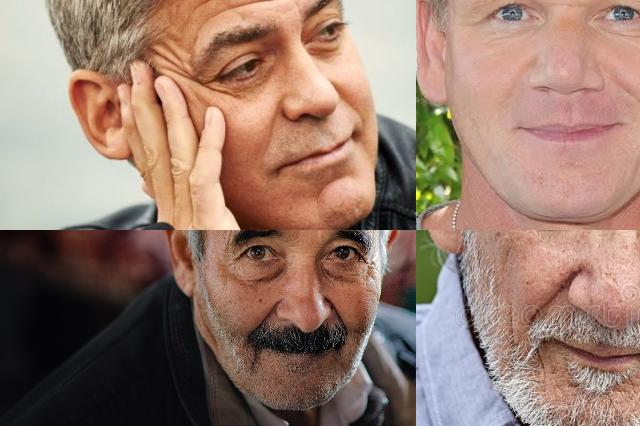chin: (615, 374, 639, 402), (309, 187, 327, 212), (535, 350, 547, 378)
forehead: (150, 36, 190, 72), (186, 0, 229, 22)
gummy_smile: (528, 280, 560, 320), (332, 86, 368, 116), (262, 107, 284, 147), (258, 290, 278, 330), (327, 296, 349, 330)
masseter: (504, 305, 520, 341)
